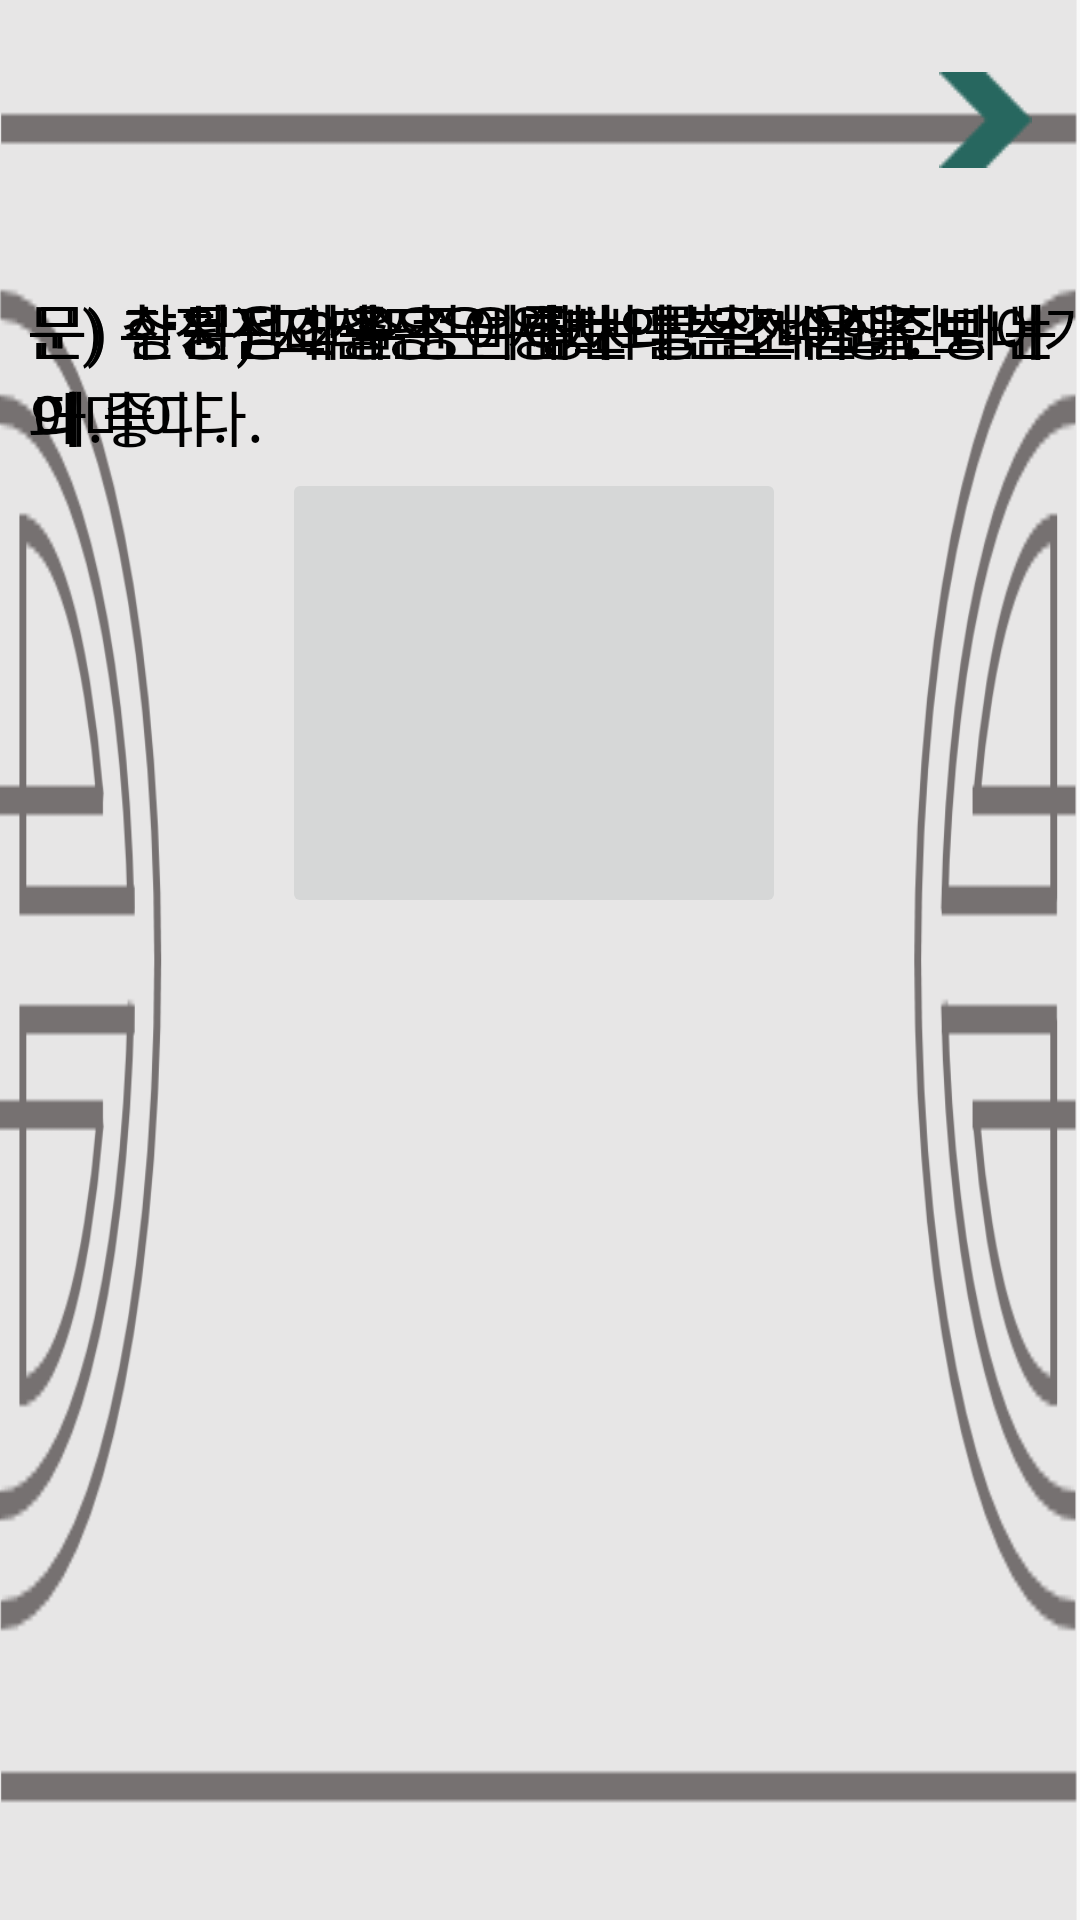

Named icons in this screenshot (1080*1920) and their bounding boxes, (x1, y1, x2, y2):
next: (939, 72, 1032, 168)
